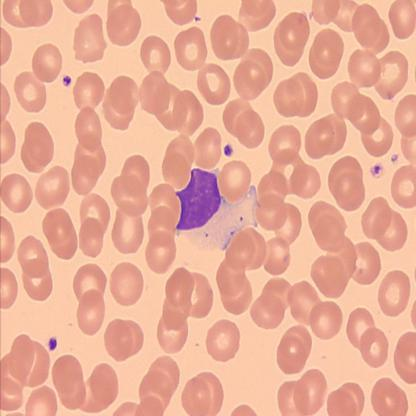Atypical lymphocyte: (174, 167, 261, 250)
